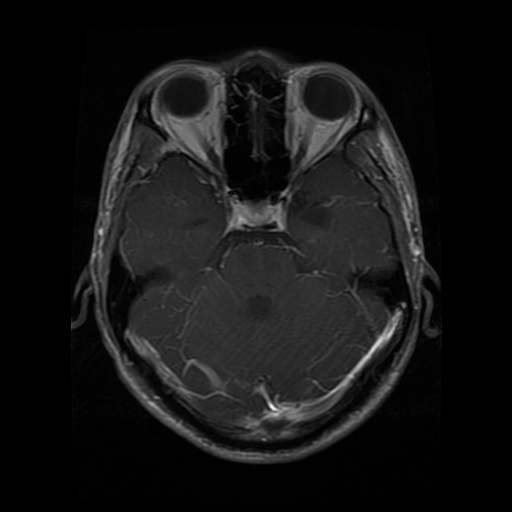glioma: (288, 188, 347, 232)
